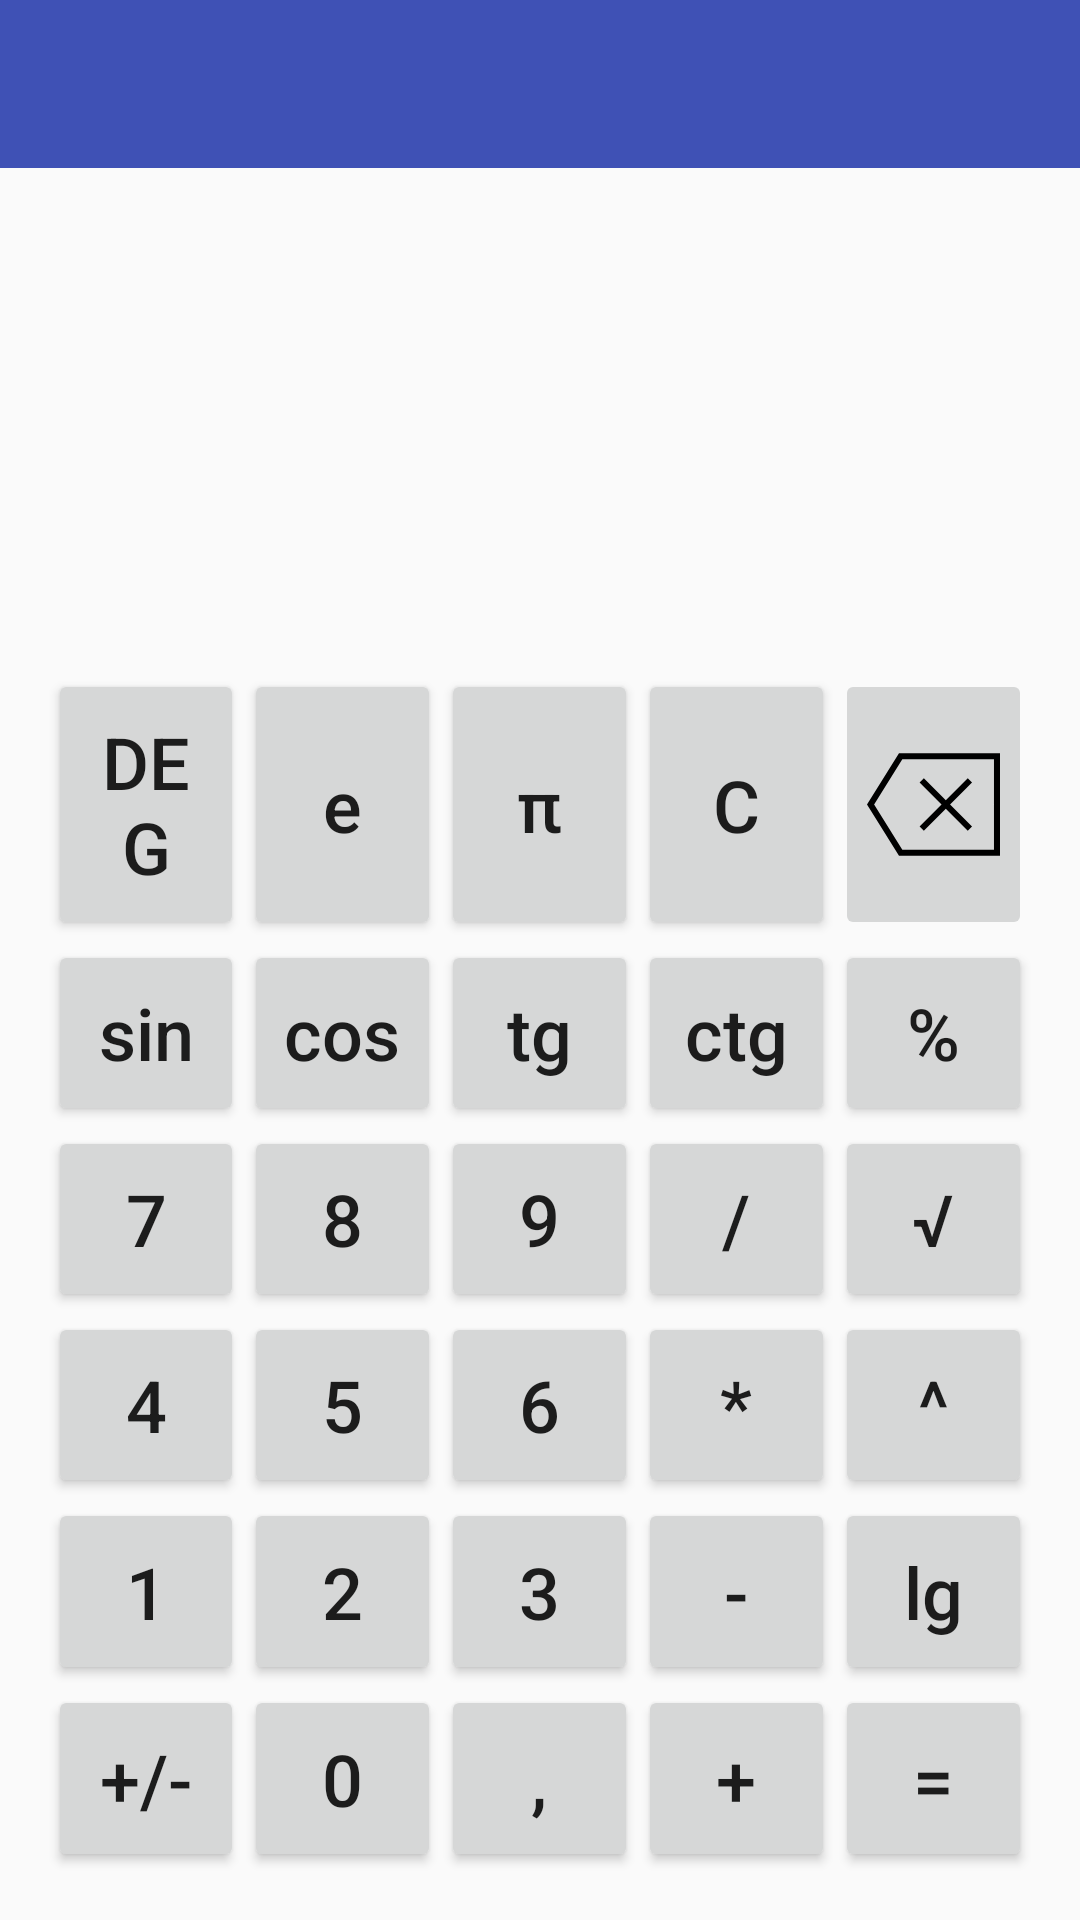

Icon bounding boxes for this 1080 × 1920 phone screenshot, format rect(x1, y1, x2, y2):
backspace: rect(847, 687, 1020, 922)
